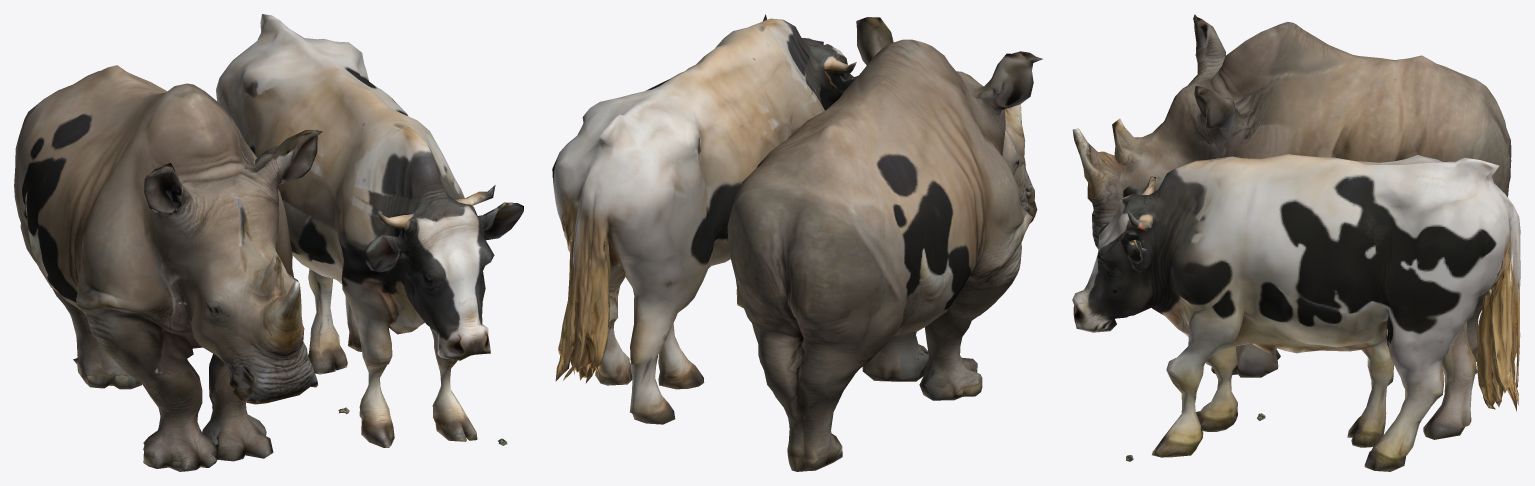
The model's file is rhino_cow.glb.
3 renders of one model, left to right at view 1: azimuth 30°, elevation 25°; view 2: azimuth 150°, elevation 25°; view 3: azimuth 270°, elevation 25°, orthographic. The views are drawn at different scales.
Bounding box in the file's own units: 1.77 × 1.64 × 2.
Materials: 1 (1 with a texture image).
